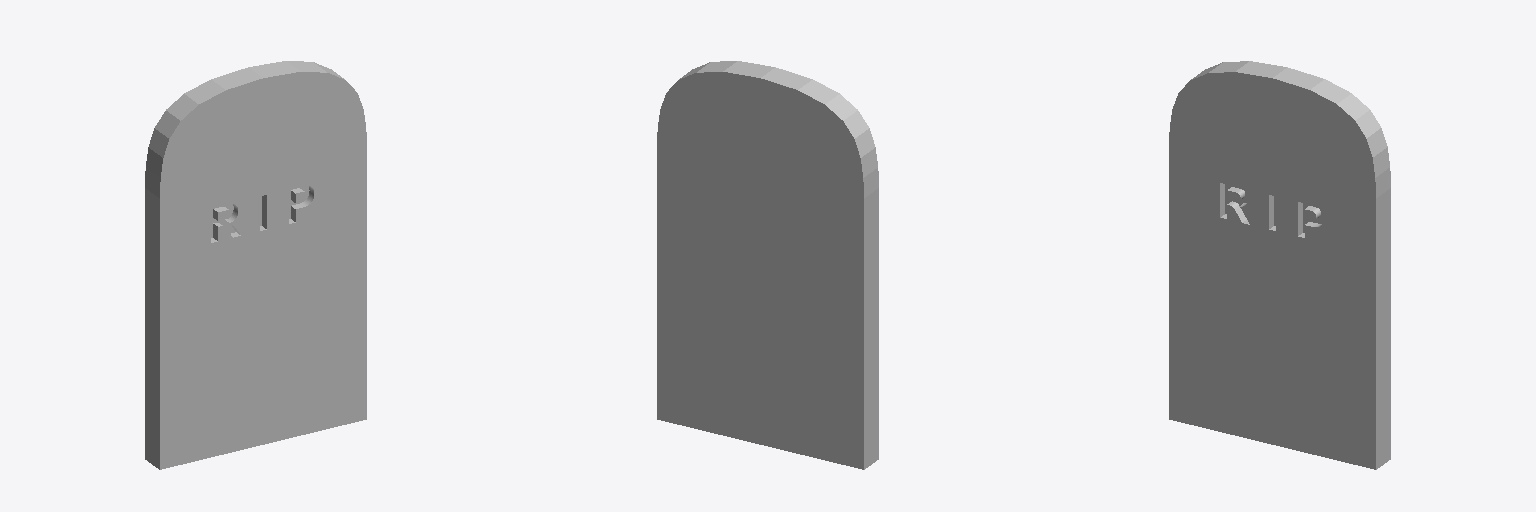
File: gravestone.obj
The picture shows the model from 3 angles: view 1: azimuth 30°, elevation 25°; view 2: azimuth 150°, elevation 25°; view 3: azimuth 330°, elevation 25°; orthographic projection.
Visible parts, largest first — view 1: Text001; view 2: Text001; view 3: Text001.
Boxes of the visible parts, x1=… form: Text001: x1=145, y1=61, x2=366, y2=469; Text001: x1=657, y1=61, x2=878, y2=469; Text001: x1=1169, y1=61, x2=1390, y2=469.
Bounding box in the file's own units: 11.45 × 19.33 × 1.43.